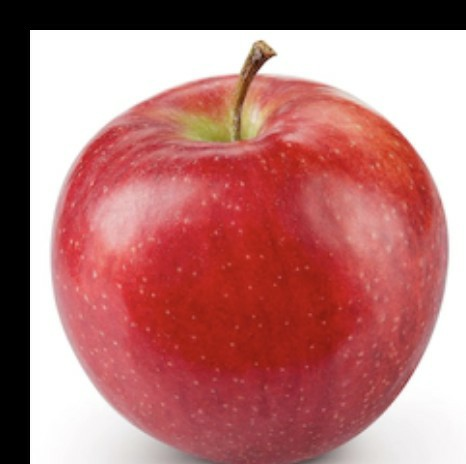fresh_apple: (50, 76, 446, 464)
